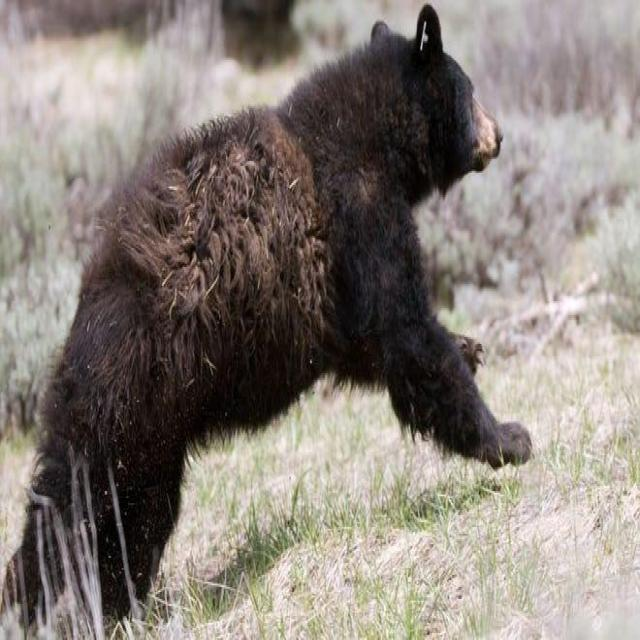Bear: (0, 7, 534, 640)
